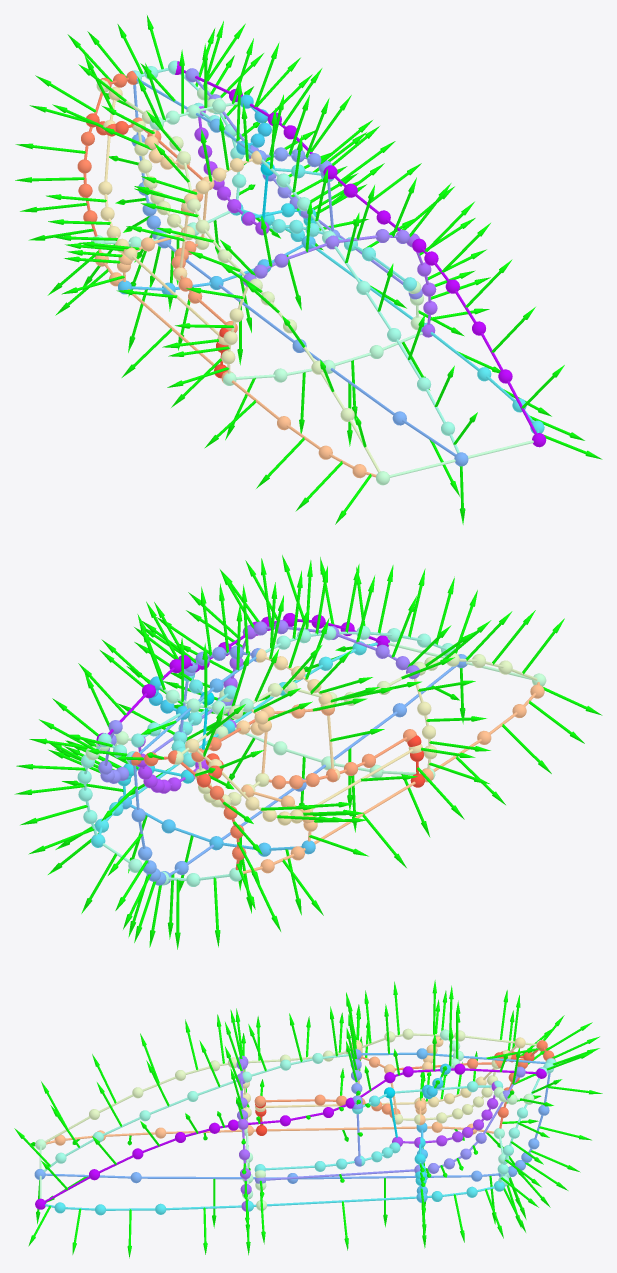
The model's file is t2f_hand_vacuum.gltf.
3 views of the same model, one above another, from view 1: azimuth 30°, elevation 25°; view 2: azimuth 150°, elevation 25°; view 3: azimuth 270°, elevation 25° (orthographic). The views are drawn at different scales.
Size of the model in its own units: 0.5218 by 0.4441 by 1.05.
